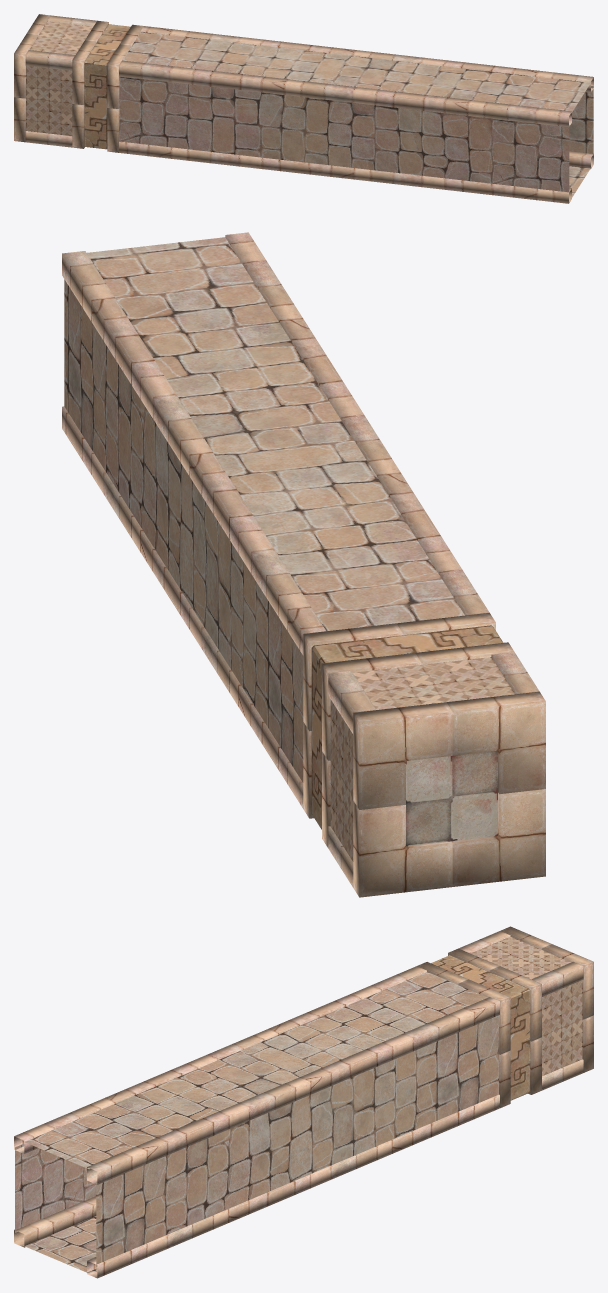
Rendered from StonePillar002.obj.
3 views of the same model, one above another, from view 1: azimuth 30°, elevation 25°; view 2: azimuth 150°, elevation 25°; view 3: azimuth 270°, elevation 25° (orthographic). The views are drawn at different scales.
Visible parts, largest first — view 1: pCube4762__WallBrickBase04, corner01_low10_1__EdgeStoneBlock03, pCube4763__ReliefStoneCross01, pCube4759__ReliefStonePattern01; view 2: pCube4762__WallBrickBase04, corner01_low10_1__EdgeStoneBlock03, pCube4763__ReliefStoneCross01, pPlane1__FloorStoneBase02, pCube4759__ReliefStonePattern01; view 3: pCube4762__WallBrickBase04, corner01_low10_1__EdgeStoneBlock03, pCube4763__ReliefStoneCross01, pCube4759__ReliefStonePattern01.
Part boxes in pixels (x1,y1,x2,y2): pCube4762__WallBrickBase04: (119, 32, 593, 198); corner01_low10_1__EdgeStoneBlock03: (14, 14, 593, 203); pCube4763__ReliefStoneCross01: (26, 21, 92, 135); pCube4759__ReliefStonePattern01: (84, 24, 130, 149); pCube4762__WallBrickBase04: (64, 237, 464, 782); corner01_low10_1__EdgeStoneBlock03: (62, 232, 545, 897); pCube4763__ReliefStoneCross01: (330, 657, 514, 861); pPlane1__FloorStoneBase02: (406, 750, 497, 846); pCube4759__ReliefStonePattern01: (311, 625, 503, 829); pCube4762__WallBrickBase04: (15, 972, 498, 1273); corner01_low10_1__EdgeStoneBlock03: (14, 926, 593, 1278); pCube4763__ReliefStoneCross01: (471, 936, 582, 1076); pCube4759__ReliefStonePattern01: (431, 955, 530, 1100).
Size of the model in its own units: 1966 by 400 by 1966.
6 materials, 5 textured.
